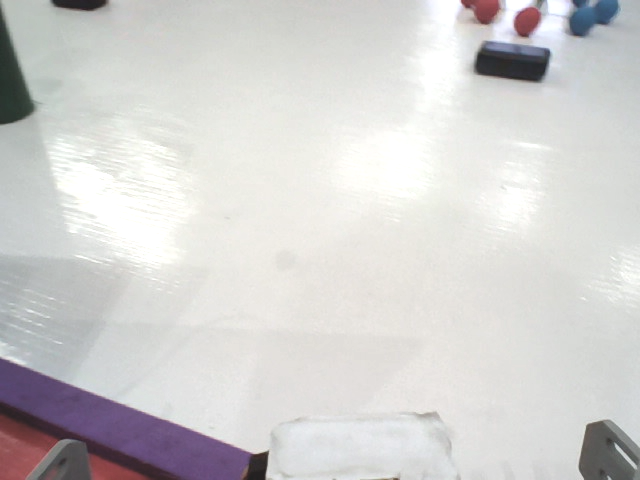black: (474, 39, 551, 80)
blue: (568, 8, 595, 36), (595, 1, 622, 26)
kuang: (1, 350, 310, 480)
red: (514, 5, 546, 36), (465, 1, 504, 23)
